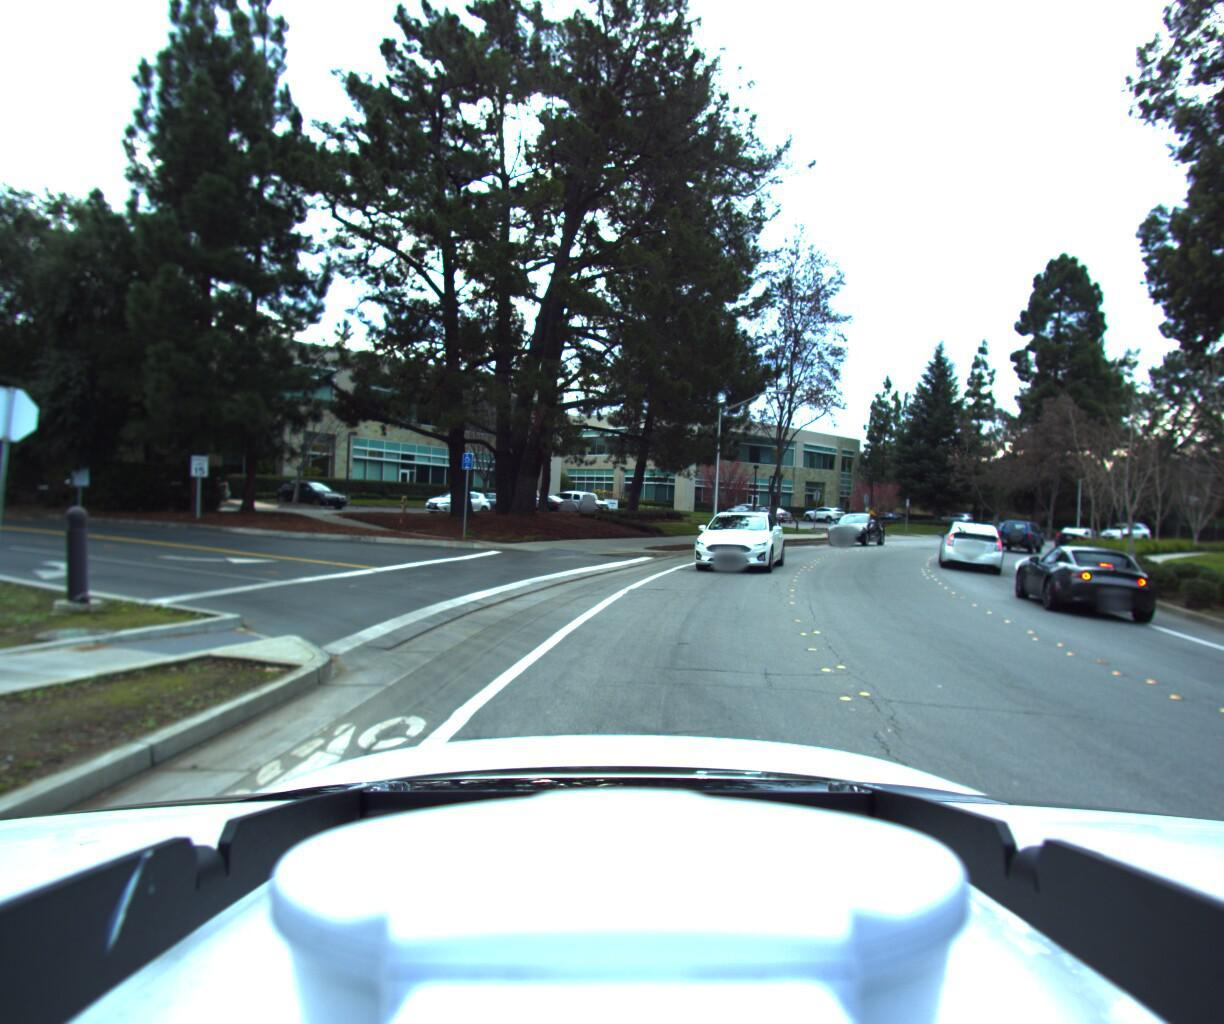car: (1008, 527, 1166, 617), (680, 502, 784, 576), (939, 518, 1007, 573), (813, 508, 882, 544), (997, 511, 1054, 548), (1053, 520, 1115, 547), (1087, 513, 1144, 537)
